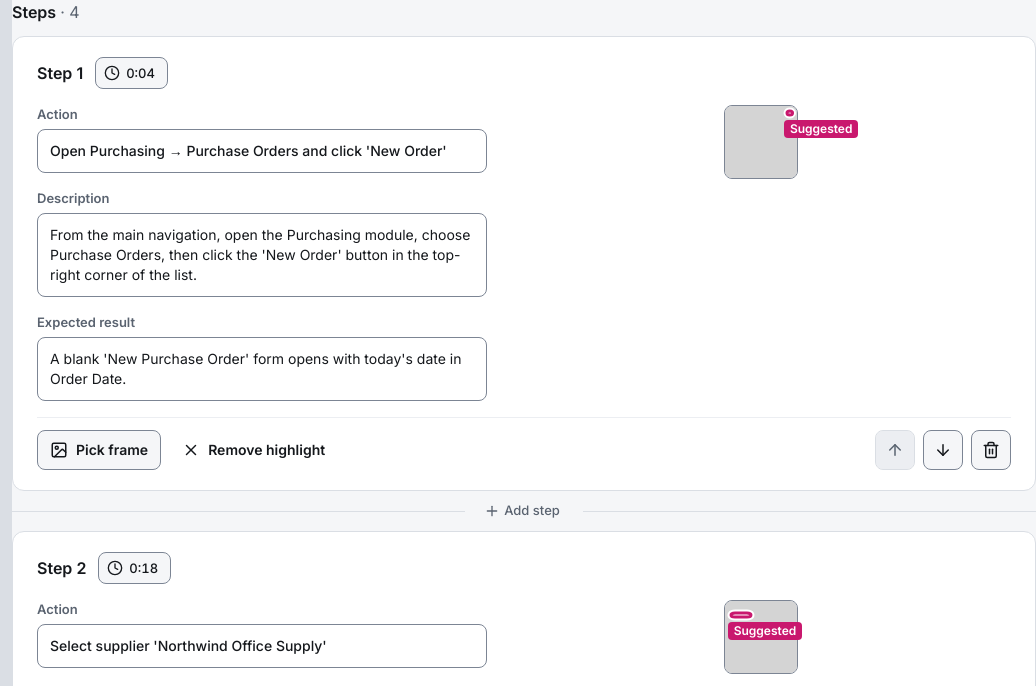
Test case: StepList › a second delete replaces the row
Click the button named "Delete step 1" at (991, 450), box x1=971 y1=430 x2=1011 y2=470
(page scrolled)
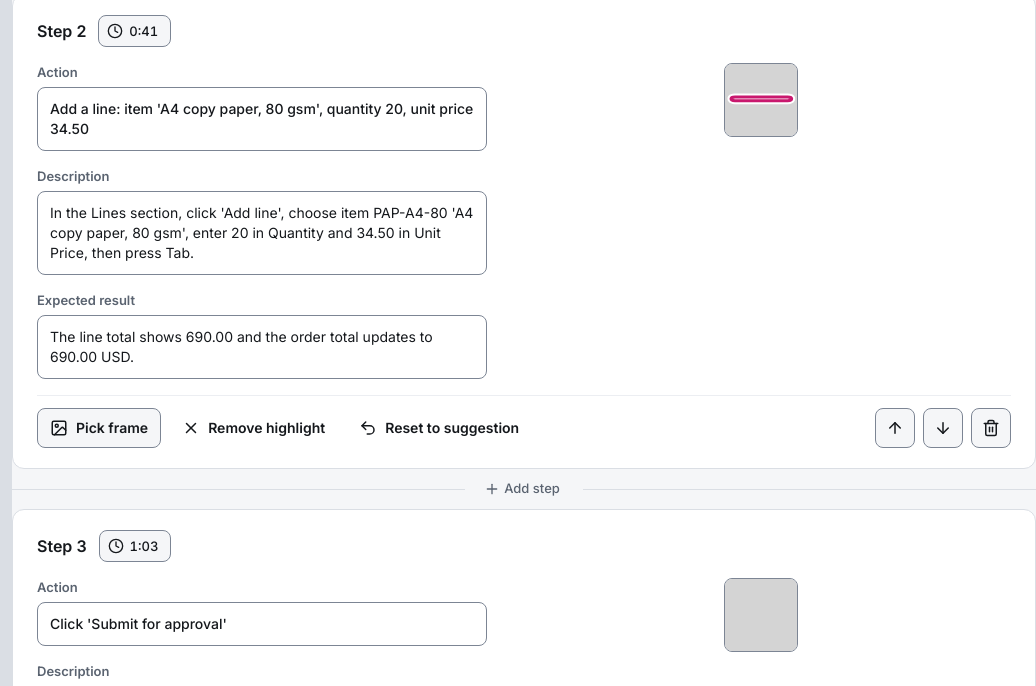
Click the button named "Delete step 2" at (991, 428), box x1=971 y1=408 x2=1011 y2=448
(page scrolled)
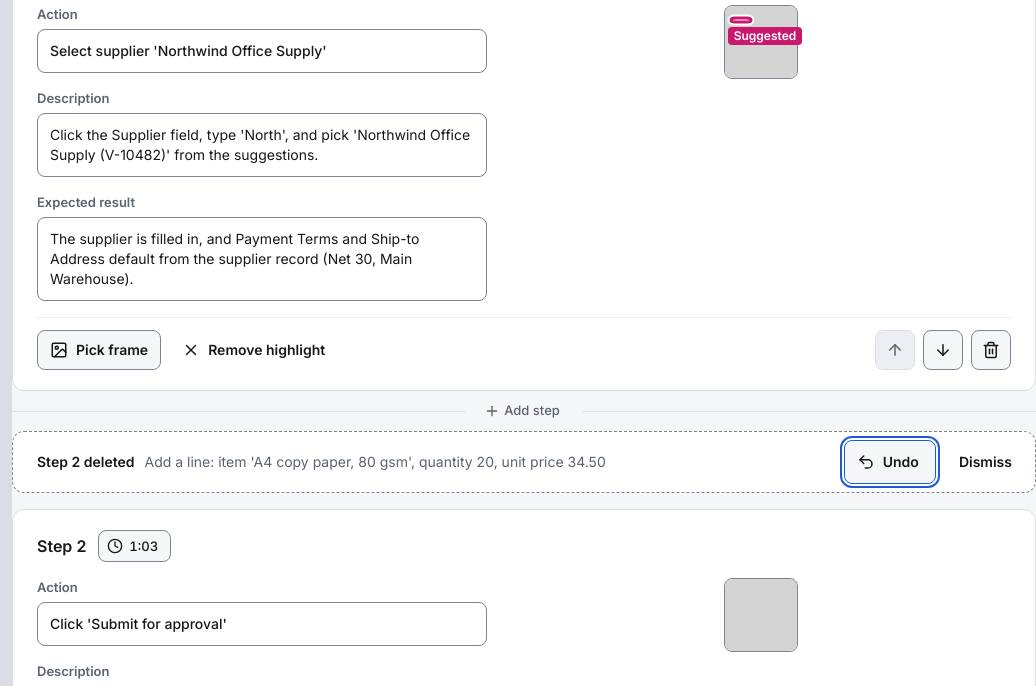
Check: the text "Step 2 deleted" is shown, box x1=37 y1=452 x2=134 y2=472
Check: the number of buttons "Undo" is 1, box x1=844 y1=440 x2=936 y2=484
